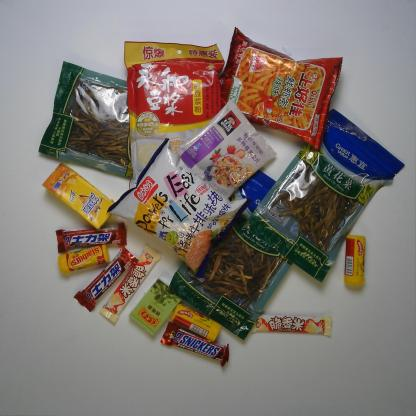Candy: (129, 277, 182, 336), (170, 304, 221, 343), (57, 245, 111, 276), (344, 234, 367, 287)
Chocolate: (99, 246, 162, 323), (74, 246, 139, 312), (160, 321, 230, 367), (56, 222, 127, 254), (250, 313, 332, 336)
Dried Food: (241, 108, 405, 283), (169, 170, 296, 340), (38, 61, 133, 180)
Drink: (41, 162, 117, 230)
Instant Drink: (122, 40, 225, 194), (176, 98, 279, 199)
Puffed Food: (106, 137, 252, 277), (219, 26, 343, 151)
